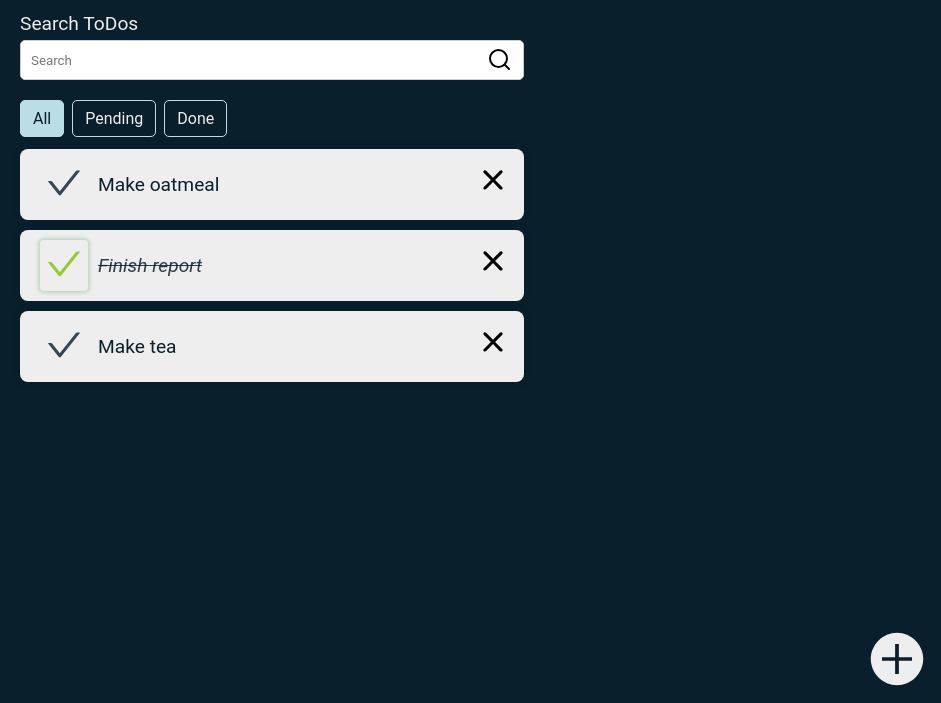
Test case: App › preserves the query and composes it with All, Pending, and Done tabs
Type "e" into the field labelled "Search ToDos" at (272, 60), box left=20, top=40, right=524, bottom=80
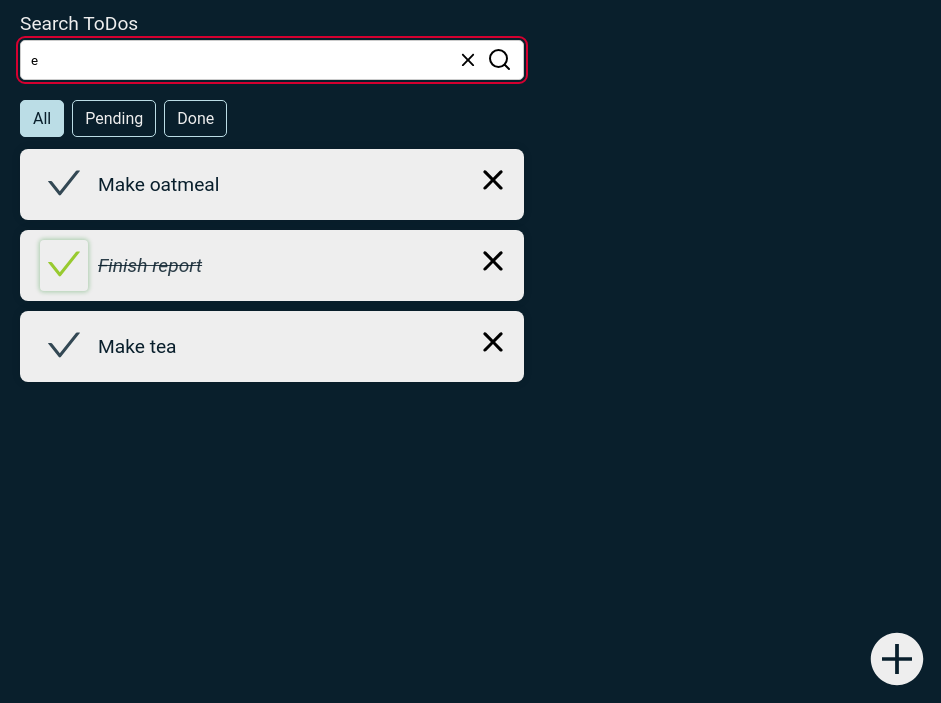
Expected: the text "Make oatmeal" is shown, left=98, top=173, right=219, bottom=196
Expected: the text "Finish report" is shown, left=98, top=254, right=202, bottom=277
Click the tab "Pending" at (114, 118), box left=72, top=100, right=156, bottom=137
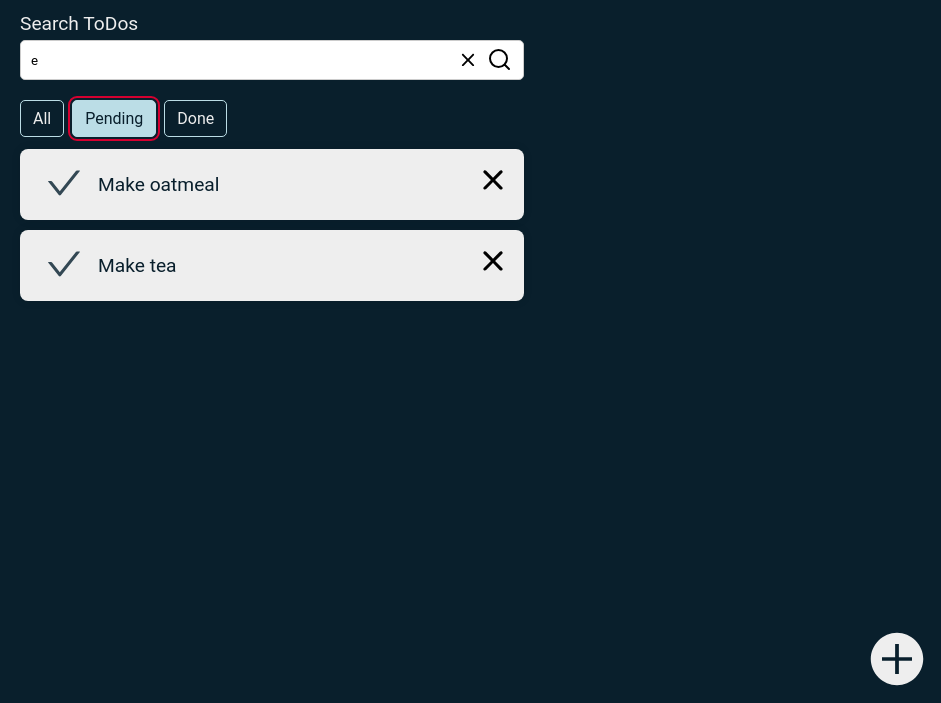
Expected: the text "Make oatmeal" is shown, left=98, top=173, right=219, bottom=196
Now the text "Finish report" is gone
Click the tab "Done" at (196, 118), box left=164, top=100, right=227, bottom=137
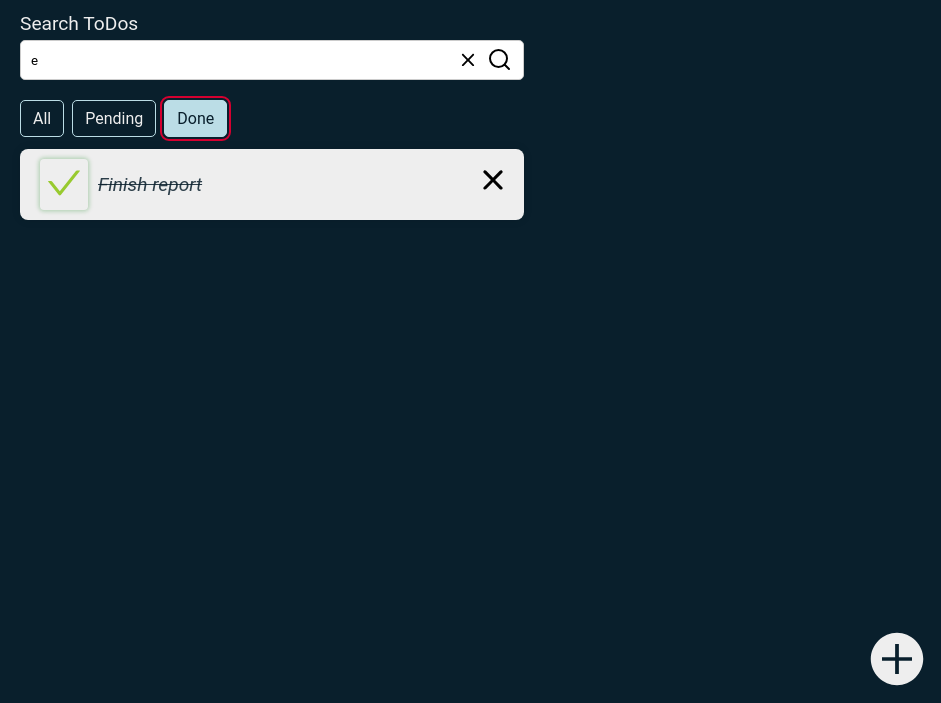
Now the text "Finish report" is shown, box left=98, top=173, right=202, bottom=196
Now the text "Make oatmeal" is gone
Click the tab "All" at (42, 118), box left=20, top=100, right=64, bottom=137
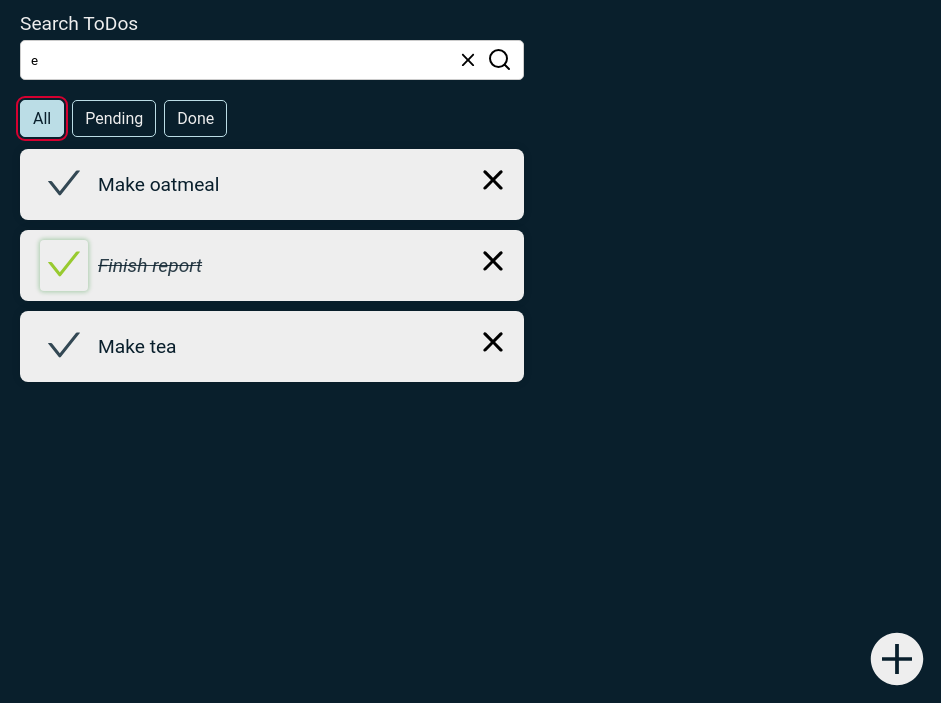
Now the text "Finish report" is shown, box left=98, top=254, right=202, bottom=277
Now the text "Make oatmeal" is shown, box left=98, top=173, right=219, bottom=196
Now the text "Make tea" is shown, box left=98, top=335, right=177, bottom=358
